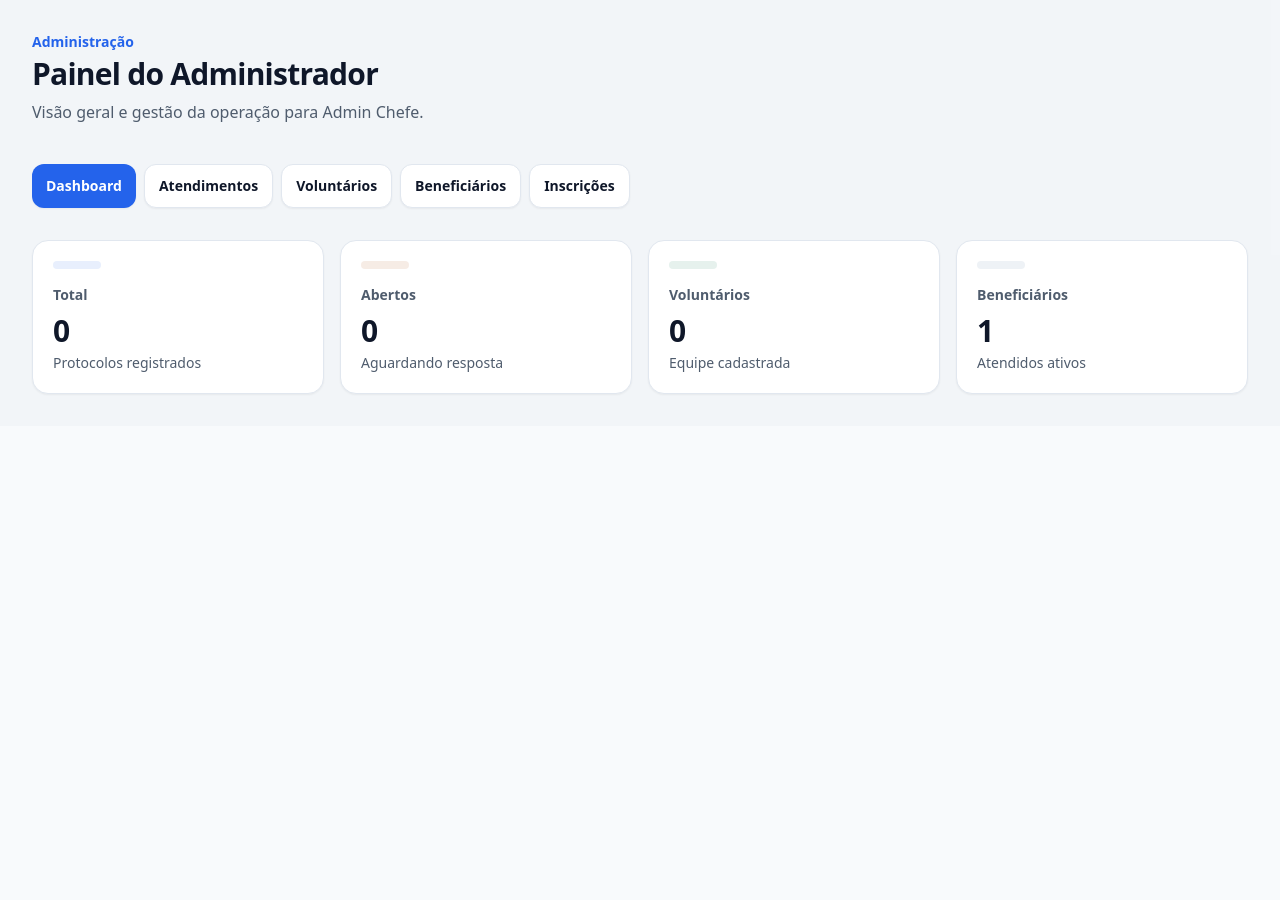
DashboardAdmin › deve focar o primeiro campo, bloquear a rolagem e fechar o modal com Escape
Expected: the heading "Painel do Administrador" is shown, [32, 56, 424, 92]
Click the button "Beneficiários": (461, 186) [400, 164, 521, 208]
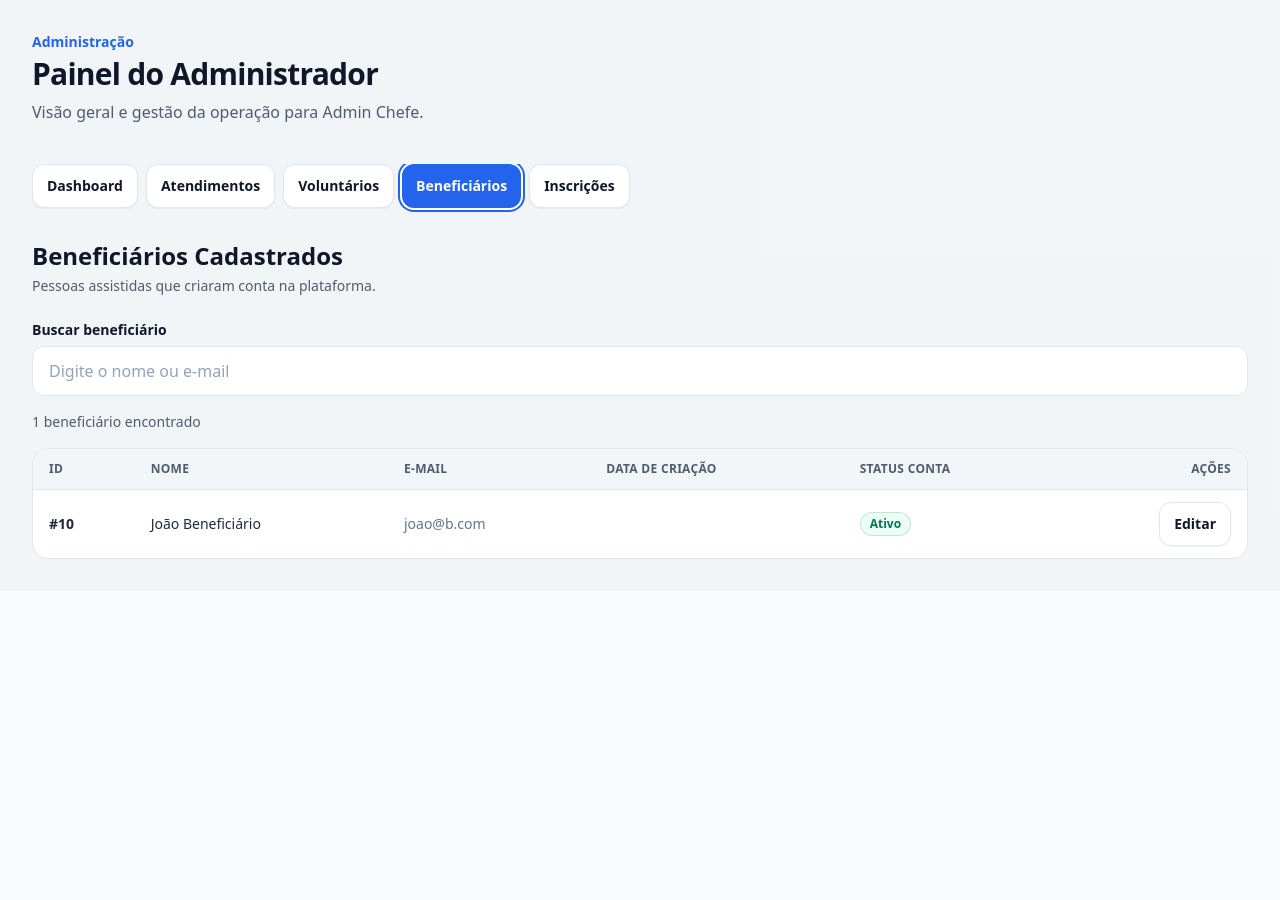
Click the button "Editar": (1195, 524) [1159, 502, 1231, 546]
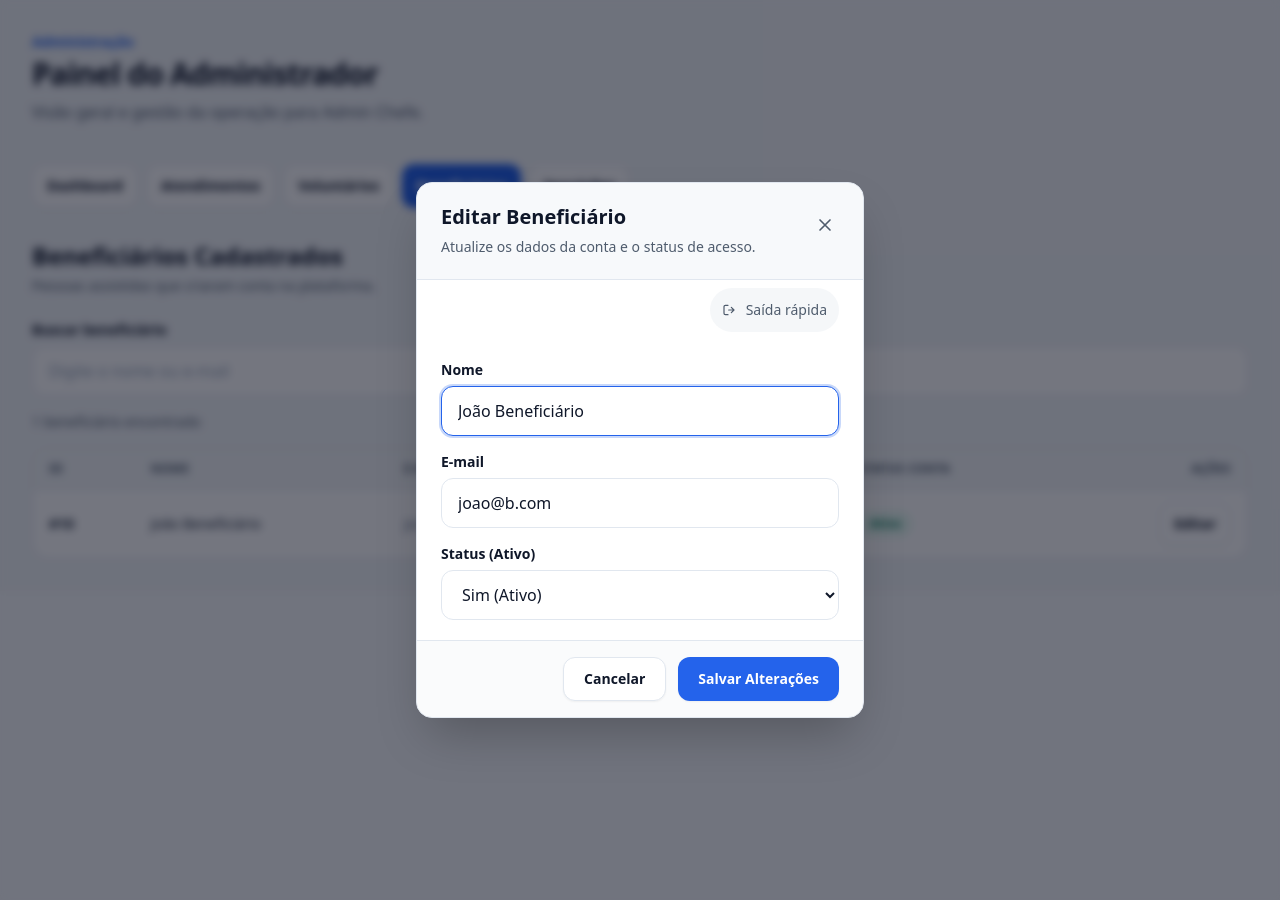
Result: the dialog "Editar Beneficiário" is shown at [416, 182, 864, 718]
Press Escape in the field labelled "Nome", box [441, 386, 839, 436]
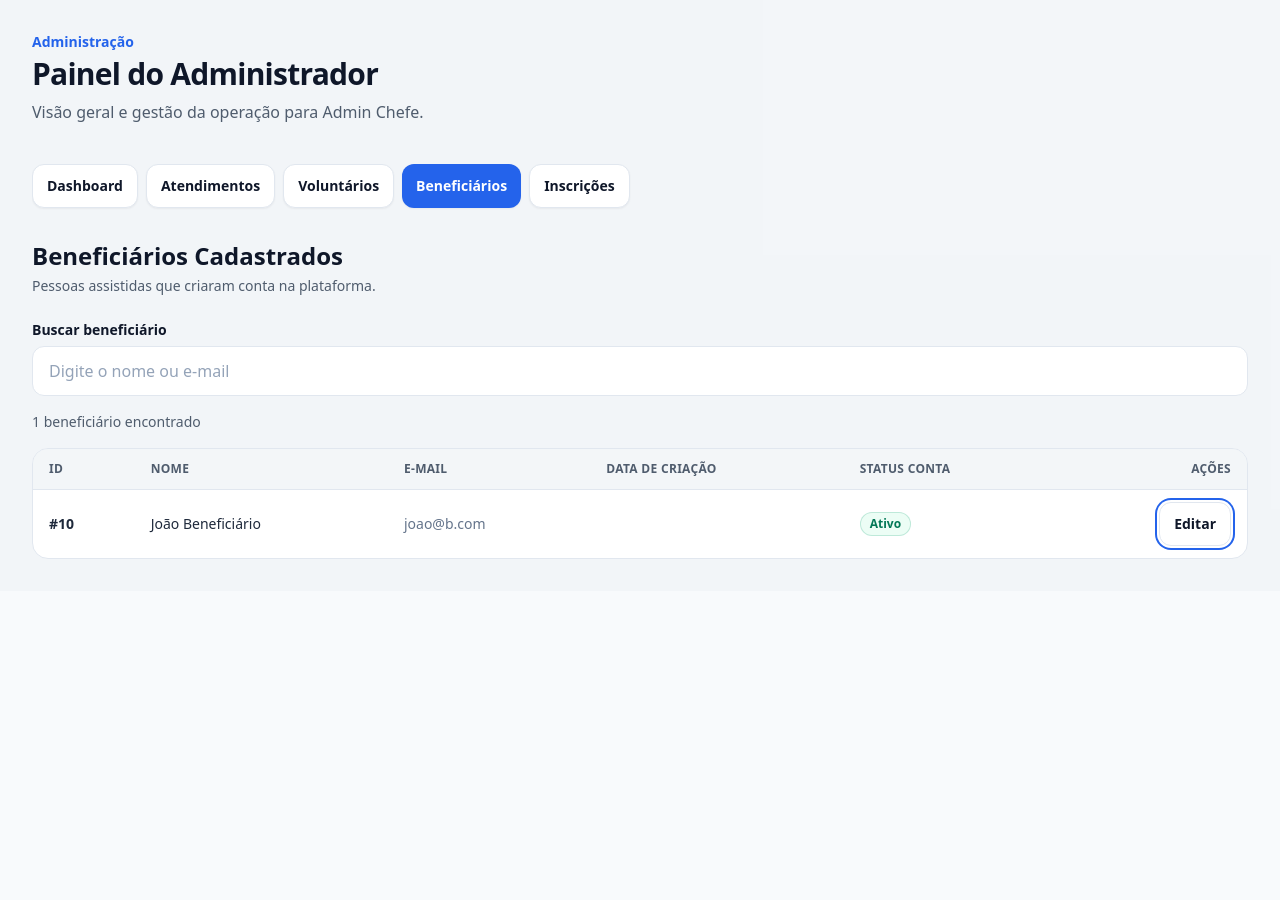
Result: the heading "Editar Beneficiário" is gone
